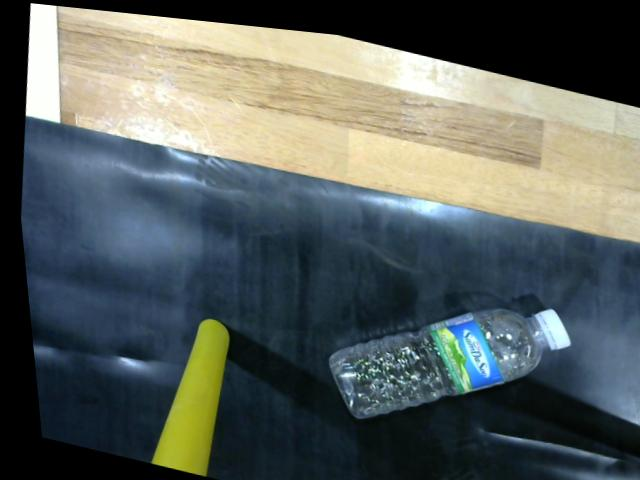bottle: (316, 285, 575, 414)
